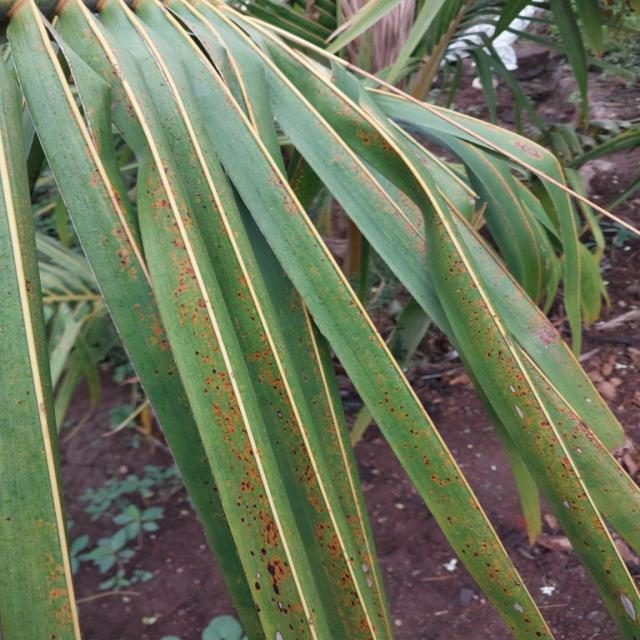gray leaf spot: (185, 115, 402, 624)
